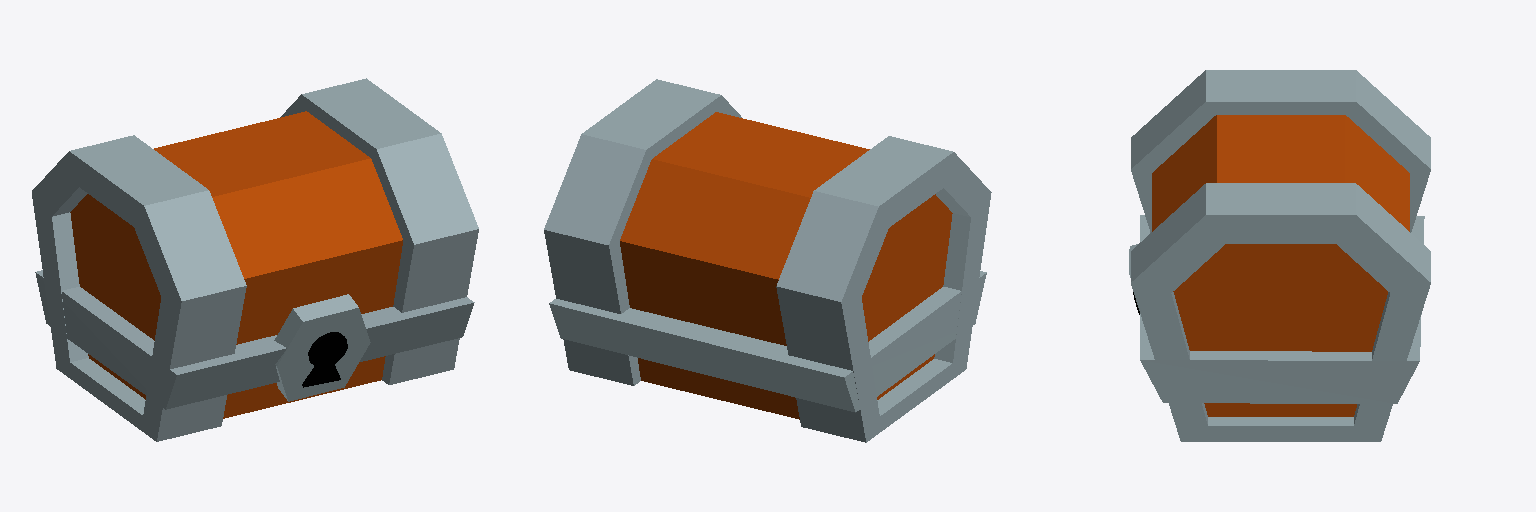
3 views of the same model, side by side, from view 1: azimuth 30°, elevation 25°; view 2: azimuth 150°, elevation 25°; view 3: azimuth 270°, elevation 25° (orthographic).
Parts seen in each view (by area): view 1: group[number redacted], group[number redacted], group[number redacted], group[number redacted], group[number redacted]; view 2: group[number redacted], group[number redacted], group[number redacted], group[number redacted]; view 3: group[number redacted], group[number redacted], group[number redacted], group[number redacted].
Part boxes in pixels (x1,y1,x2,y2): group[number redacted]: (70,111,402,418); group[number redacted]: (32,135,246,441); group[number redacted]: (280,78,478,384); group[number redacted]: (35,270,474,409); group[number redacted]: (274,294,370,401); group[number redacted]: (620,112,952,419); group[number redacted]: (776,136,991,442); group[number redacted]: (544,79,741,385); group[number redacted]: (549,271,986,412); group[number redacted]: (1152,115,1409,416); group[number redacted]: (1131,183,1430,441); group[number redacted]: (1131,70,1430,232); group[number redacted]: (1140,215,1424,403).
Size of the model in its own units: 0.1602 by 0.1167 by 0.1409.